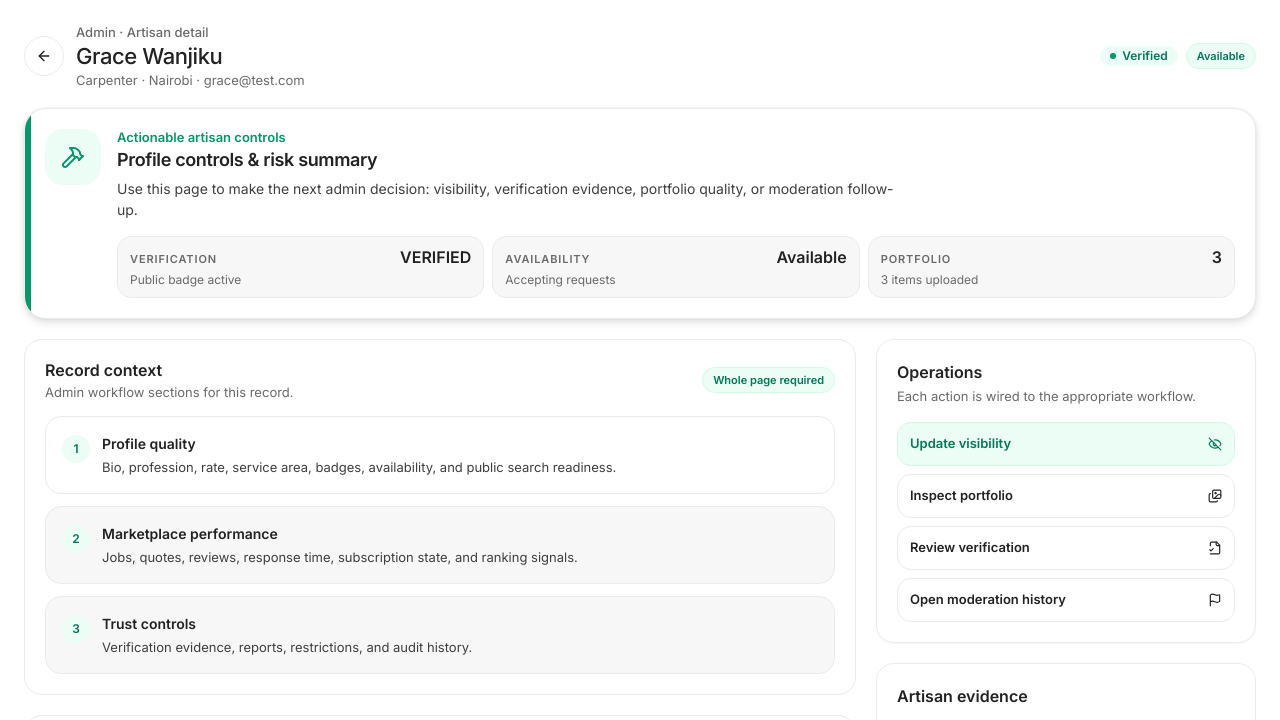
AdminDetailPage (artisan kind) › closing the verification modal logs an audit event
expect the heading "Grace Wanjiku" is shown: met, box [76, 43, 222, 69]
Click the button "Review verification" at coordinates (970, 547), box [897, 526, 1235, 570]
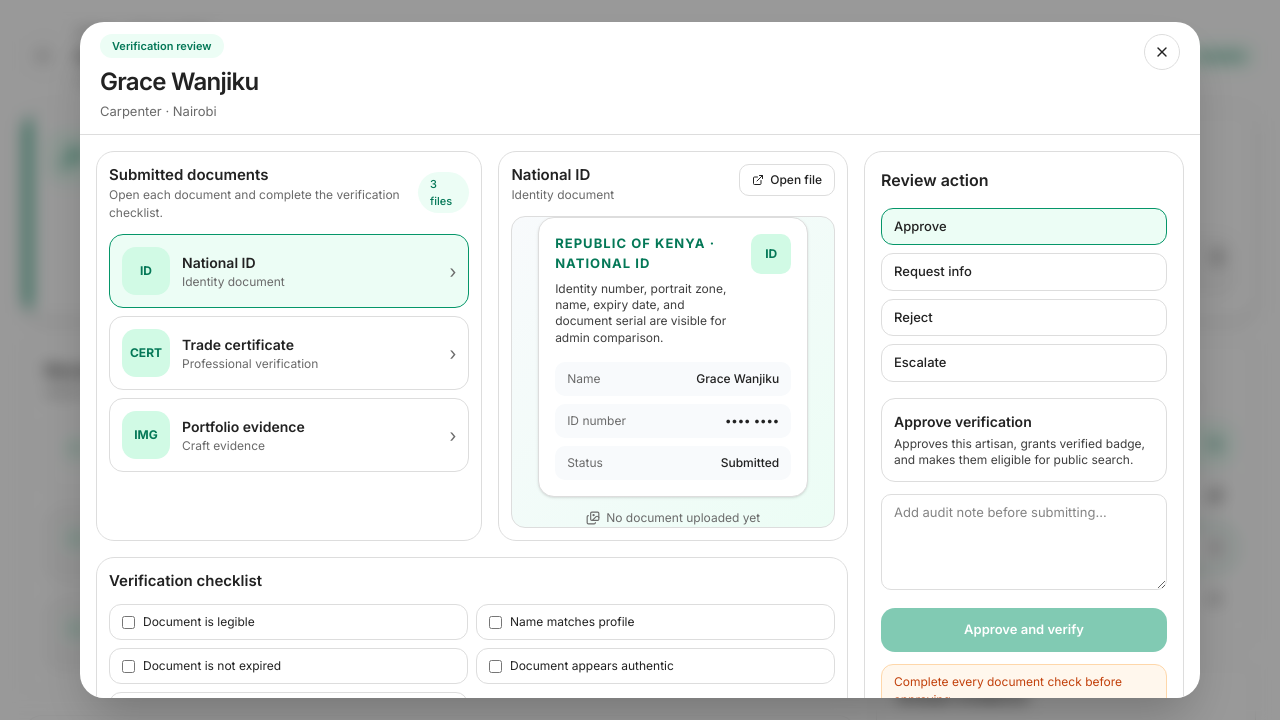
Click the button named "Close review" at coordinates (1162, 52), box [1144, 34, 1180, 70]
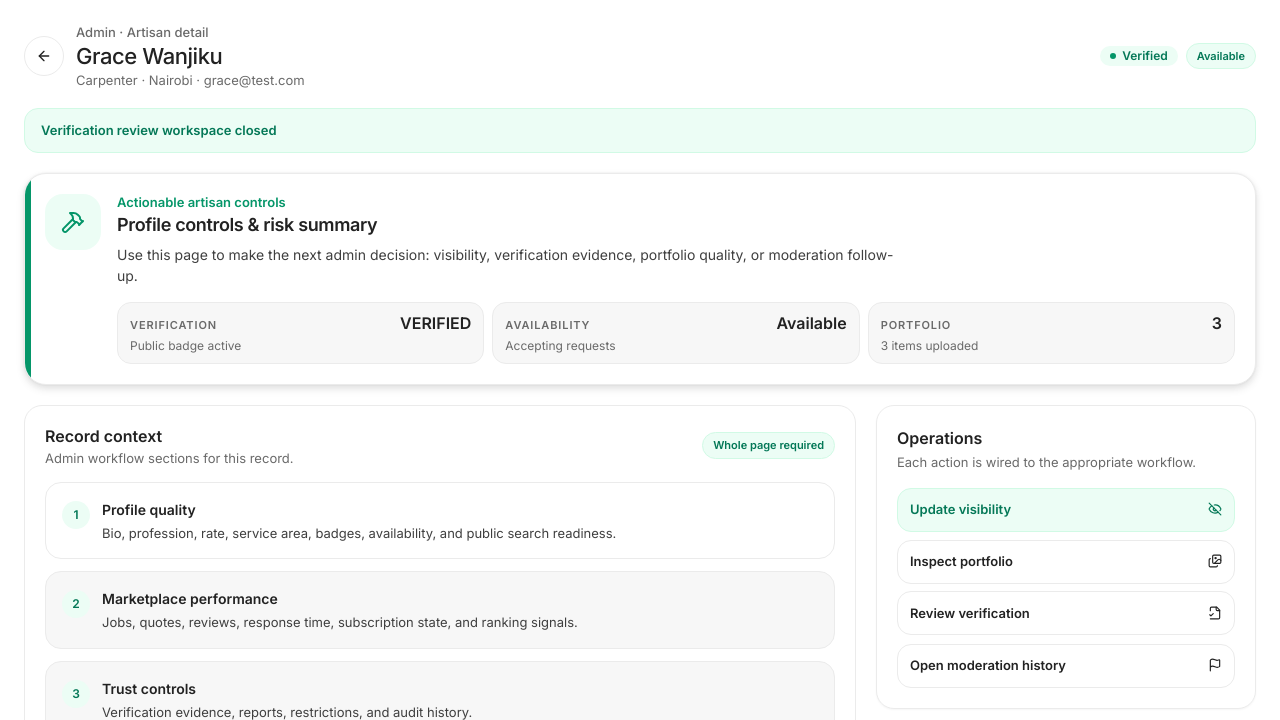
expect the text "Verification review workspace closed" is shown: met, box [24, 108, 1256, 153]
